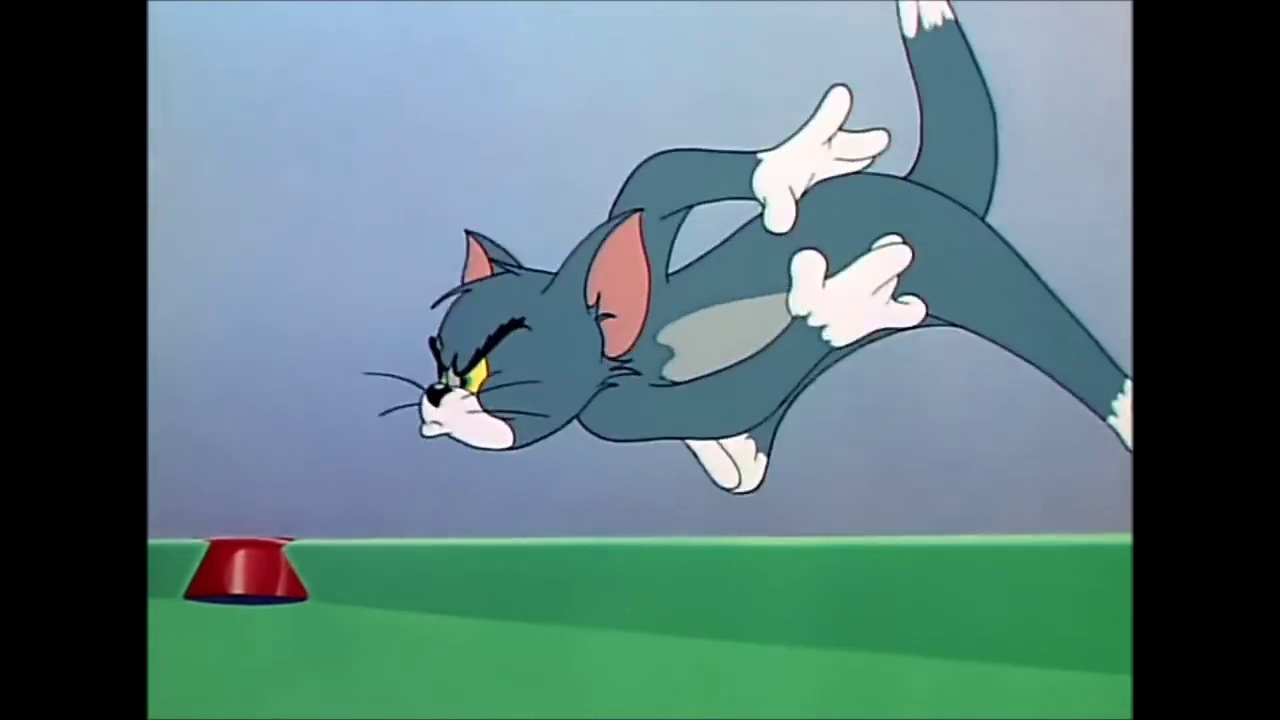angry: (418, 313, 530, 451)
